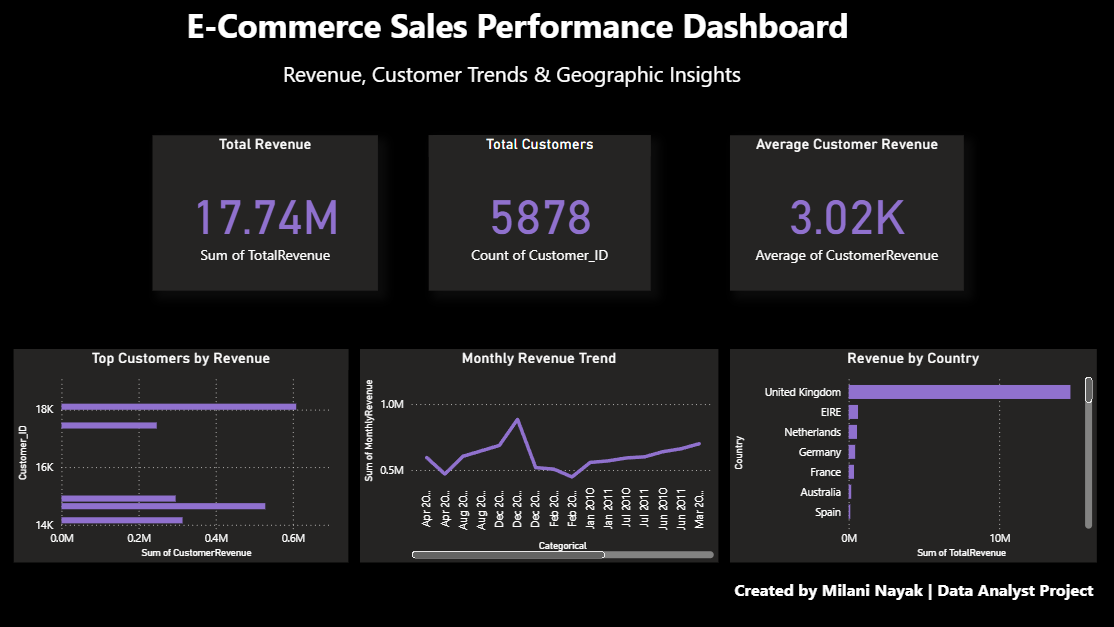

This screenshot's page, from the dashboard's own definition file:
{"tool":"powerbi","page":{"name":"Page 1","canvas":[1280,720],"ordinal":0},"visuals":[{"type":"card","title":"Total Revenue","fields":{"Values":["Sum(country.TotalRevenue)"]},"box":[0,137.1,332.9,162.9],"z":0},{"type":"clusteredBarChart","title":"Revenue by Country","fields":{"Category":["country.Country"],"Y":["Sum(country.TotalRevenue)"]},"box":[0,300,510,280],"z":1000},{"type":"lineChart","title":"Monthly Revenue Trend","fields":{"Category":["monthly.YearMonthText"],"Y":["Sum(monthly.MonthlyRevenue)"]},"box":[510,300,367.1,280],"z":2000},{"type":"clusteredBarChart","title":"Top Customers by Revenue","fields":{"Category":["customers.Customer_ID"],"Y":["Sum(customers.CustomerRevenue)"]},"box":[877.1,112.9,402.9,280],"z":3000},{"type":"card","title":"Average Customer Revenue","fields":{"Values":["Avg(customers.CustomerRevenue)"]},"box":[920,417.1,334.3,162.9],"z":5001},{"type":"textbox","box":[0,0,1195.7,94.3],"z":5002},{"type":"textbox","box":[1104,160,150,280],"z":5003},{"type":"textbox","box":[100,57.1,975.7,55.7],"z":5004},{"type":"textbox","box":[840,644.3,440,75.7],"z":5005},{"type":"card","title":"Total Customers","fields":{"Values":["CountNonNull(customers.Customer_ID)"]},"box":[332.9,137.1,265.7,162.9],"z":5006}]}

Visuals, with their boxes in screenshot pixels (x1, y1, x2, y2), scaled from the page's 1280x720 canvas onto the 1114x627 screenshot:
"Total Revenue" card: pyautogui.locateOnScreen(0, 119, 290, 261)
"Revenue by Country" clusteredBarChart: pyautogui.locateOnScreen(0, 261, 444, 505)
"Monthly Revenue Trend" lineChart: pyautogui.locateOnScreen(444, 261, 763, 505)
"Top Customers by Revenue" clusteredBarChart: pyautogui.locateOnScreen(763, 98, 1113, 342)
"Average Customer Revenue" card: pyautogui.locateOnScreen(801, 363, 1092, 505)
textbox: pyautogui.locateOnScreen(0, 0, 1041, 82)
textbox: pyautogui.locateOnScreen(961, 139, 1091, 383)
textbox: pyautogui.locateOnScreen(87, 50, 936, 98)
textbox: pyautogui.locateOnScreen(731, 561, 1113, 626)
"Total Customers" card: pyautogui.locateOnScreen(290, 119, 521, 261)
